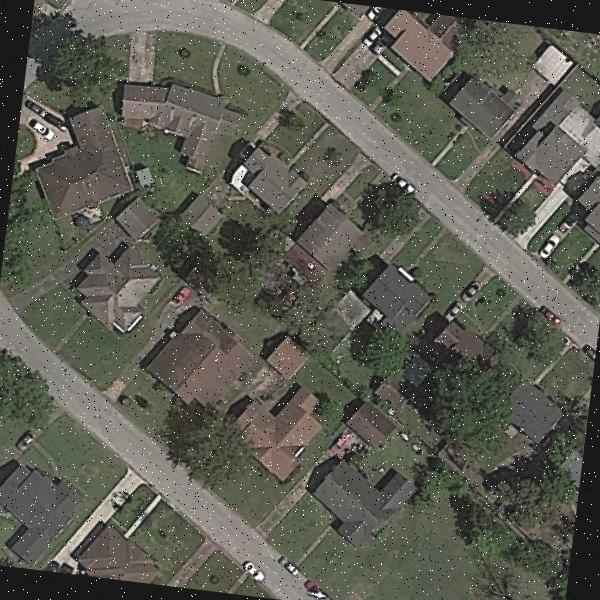Buildings: (44, 116, 126, 230), (150, 312, 252, 392), (123, 80, 225, 156), (76, 248, 164, 326), (518, 92, 588, 189), (246, 389, 318, 481), (0, 465, 73, 552), (376, 8, 464, 80), (309, 465, 406, 530), (240, 146, 310, 212), (80, 530, 158, 584), (454, 80, 510, 142), (374, 268, 432, 324), (510, 378, 560, 440), (309, 206, 354, 264), (448, 316, 492, 358)
